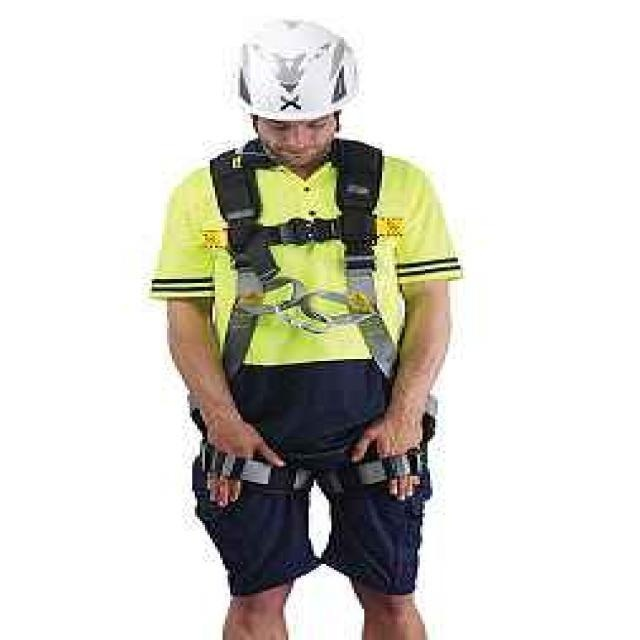Arnes_seguridad: (188, 128, 439, 519)
